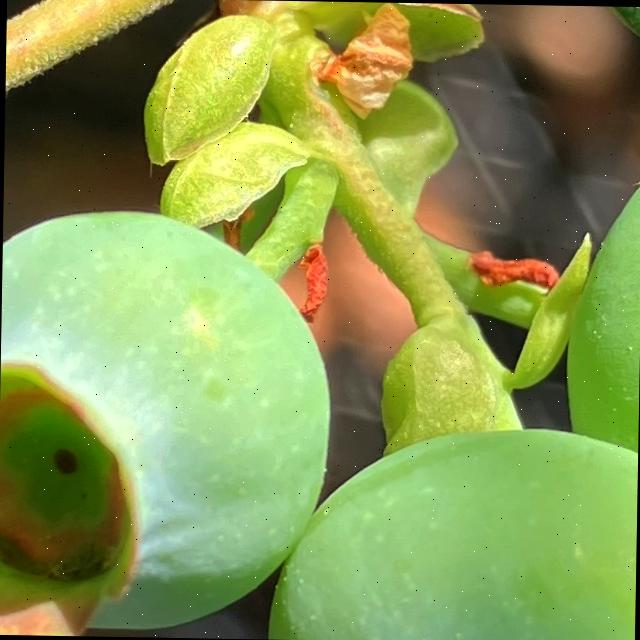Blueberries: (259, 417, 638, 640)
